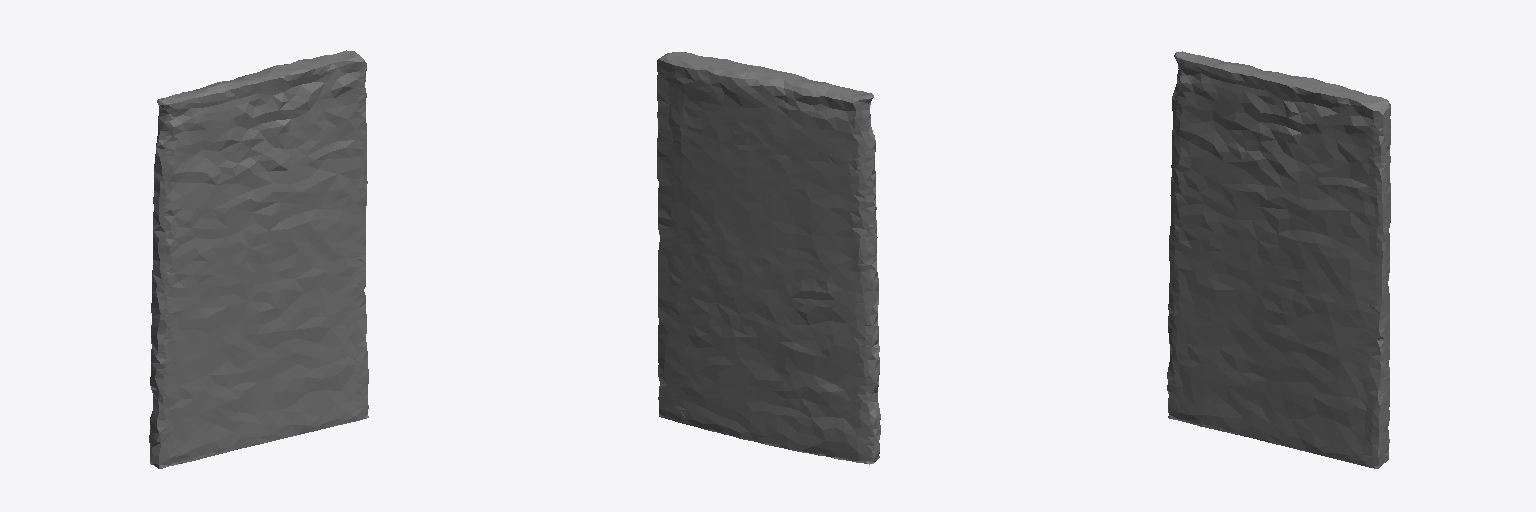
File: laugh_out_loud_joke_book.obj
3 views of the same model, side by side, from view 1: azimuth 30°, elevation 25°; view 2: azimuth 150°, elevation 25°; view 3: azimuth 330°, elevation 25° (orthographic).
Parts seen in each view (by area): view 1: amazon_jokes; view 2: amazon_jokes; view 3: amazon_jokes.
Boxes of the visible parts, box(x1,y1,x2,y2) form: amazon_jokes: box(149, 50, 368, 468); amazon_jokes: box(657, 52, 880, 464); amazon_jokes: box(1167, 51, 1390, 468).
Size of the model in its own units: 0.1106 by 0.1787 by 0.0155.